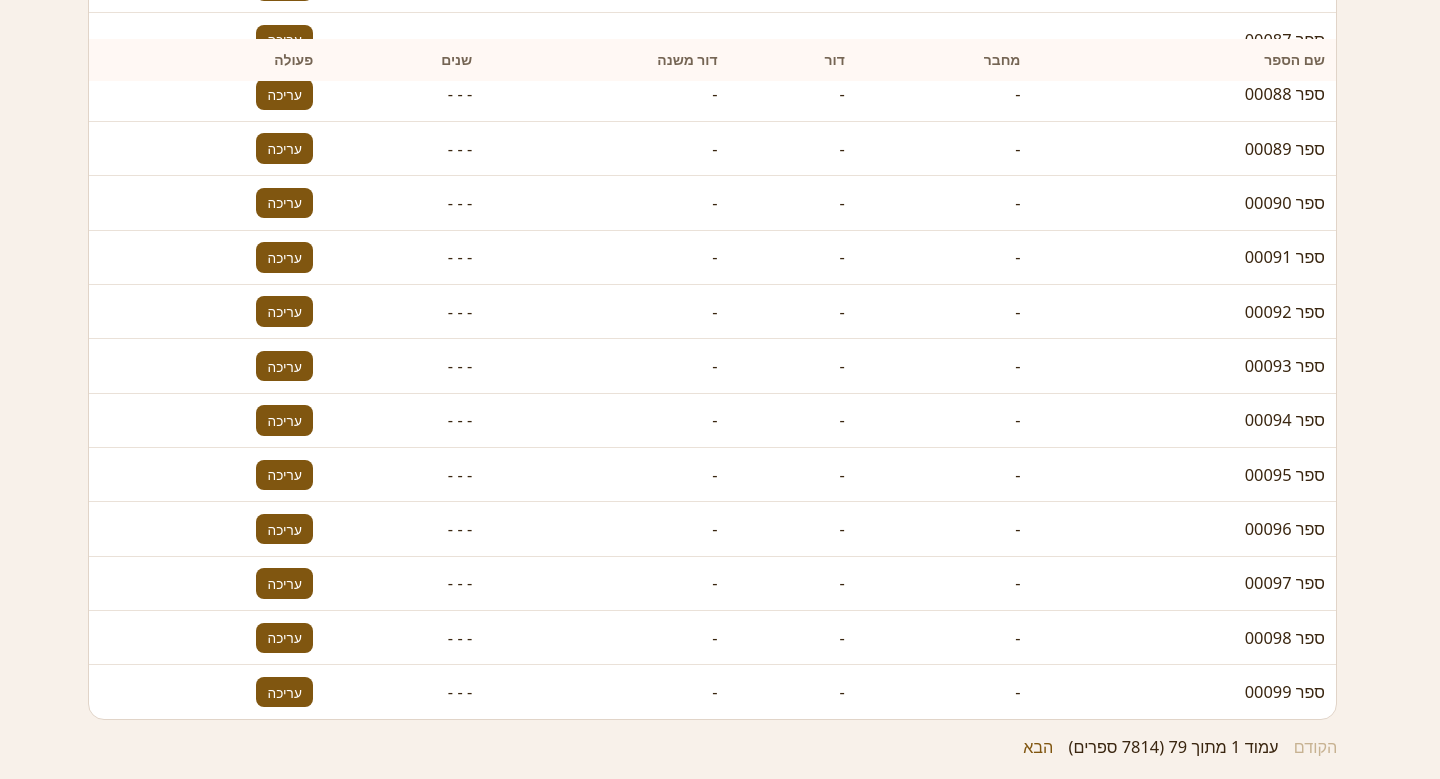
Test: book info source refresh and bounded rendering › renders at most 100 of 7814 rows while searching across the complete library
(page scrolled)
Click the button "הבא": (1038,747) left=1023, top=735, right=1053, bottom=759
(page scrolled)
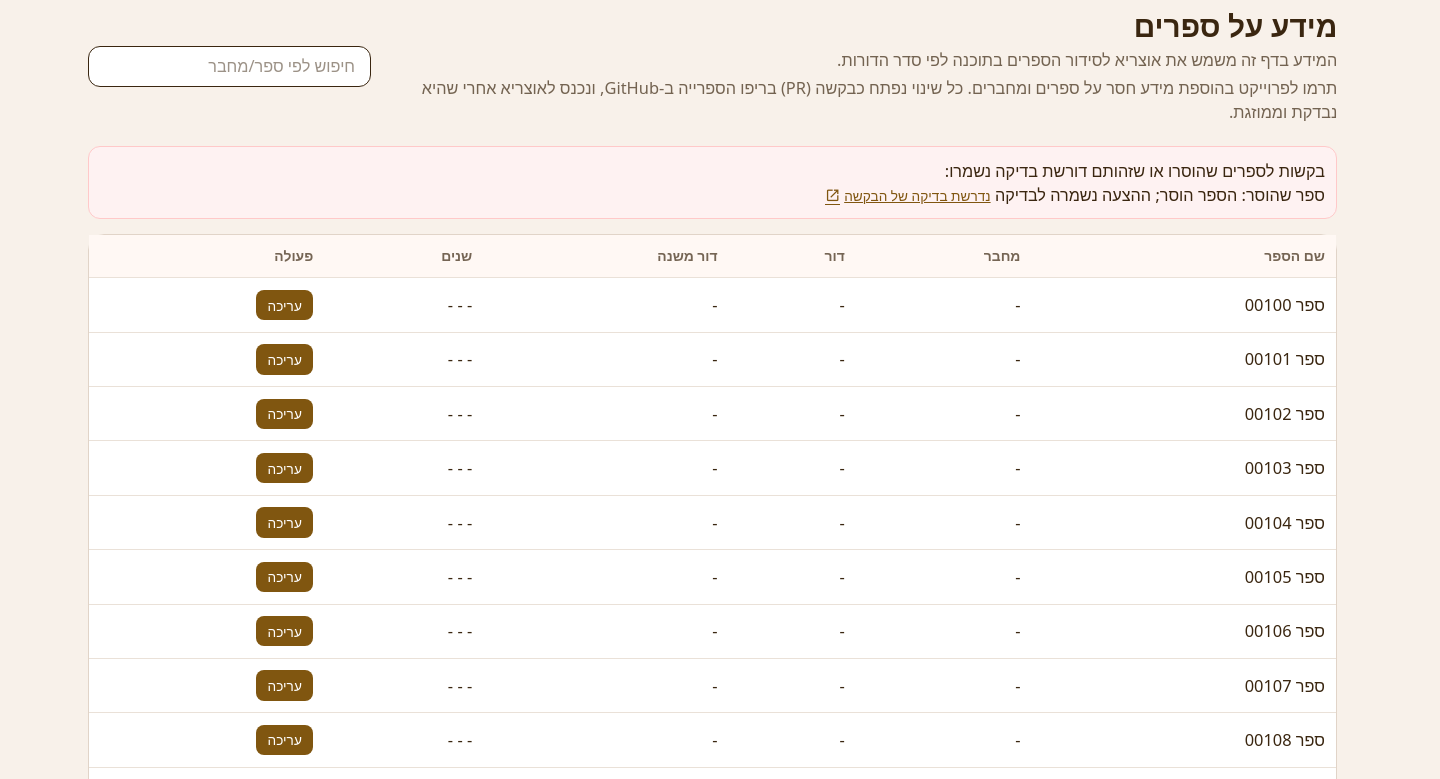
Check: the text "ספר 00100" is shown, box left=1032, top=278, right=1336, bottom=332
In the field with placeholder "חיפוש לפי ספר/מחבר": (230,66) left=88, top=46, right=371, bottom=87, type "ספר 07813"
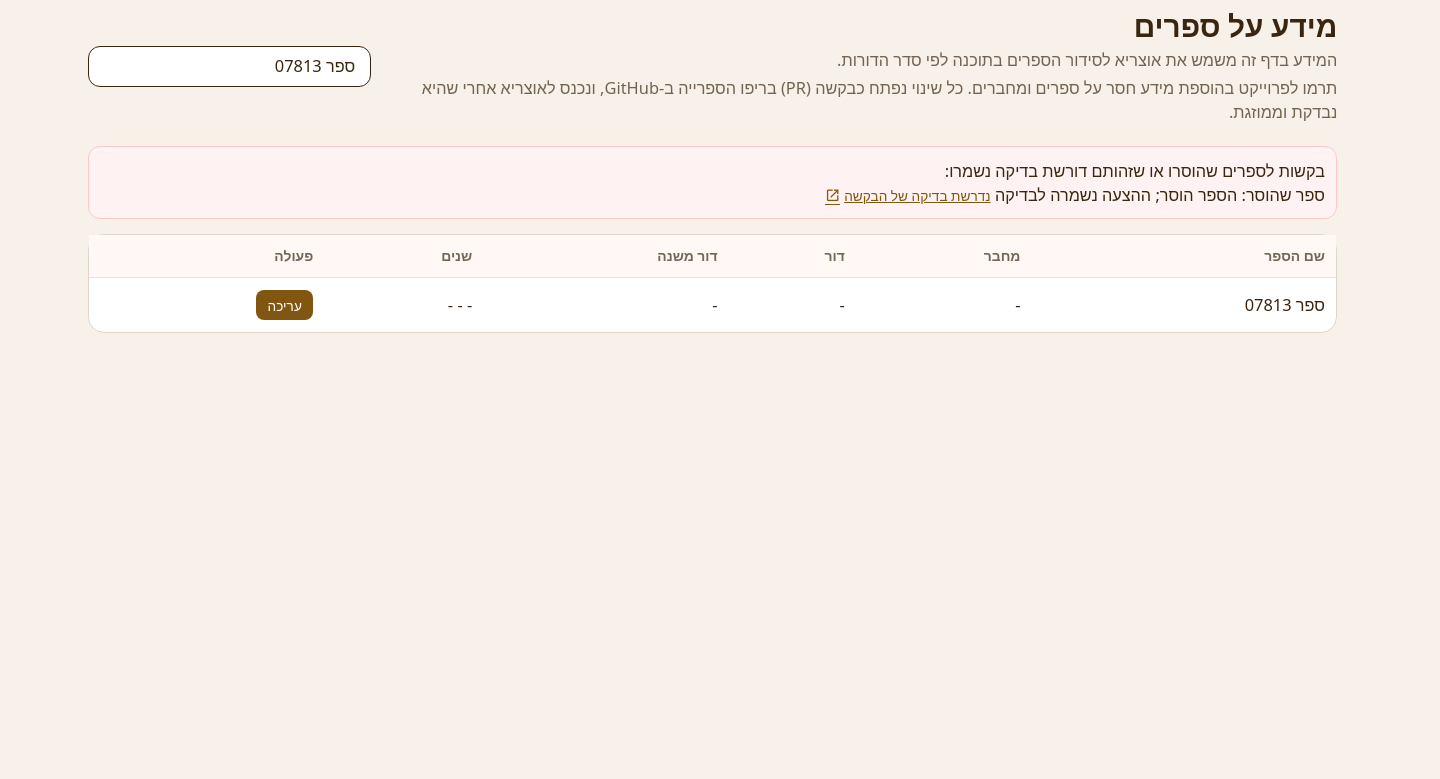
Check: the text "ספר 07813" is shown, box left=1032, top=278, right=1336, bottom=332
